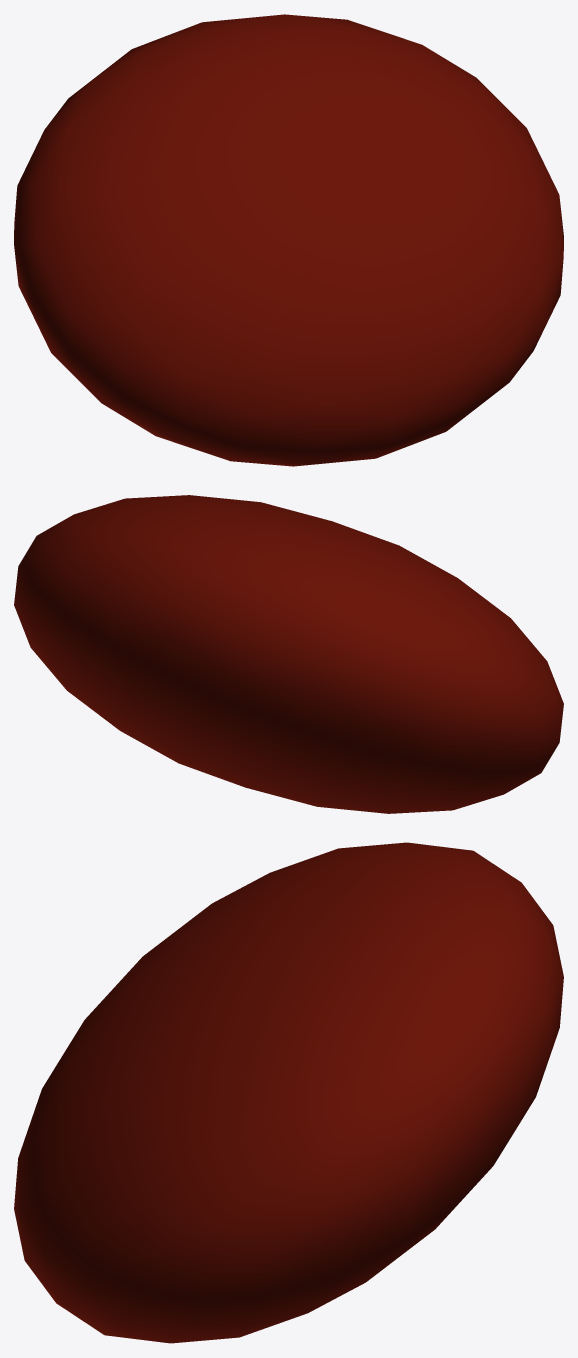
The model's file is SheenChair_016B_ellip.glb.
The picture shows the model from 3 angles, top to bottom: view 1: azimuth 30°, elevation 25°; view 2: azimuth 150°, elevation 25°; view 3: azimuth 270°, elevation 25°; orthographic projection. The views are drawn at different scales.
Size of the model in its own units: 1.92 by 1.19 by 1.46.
